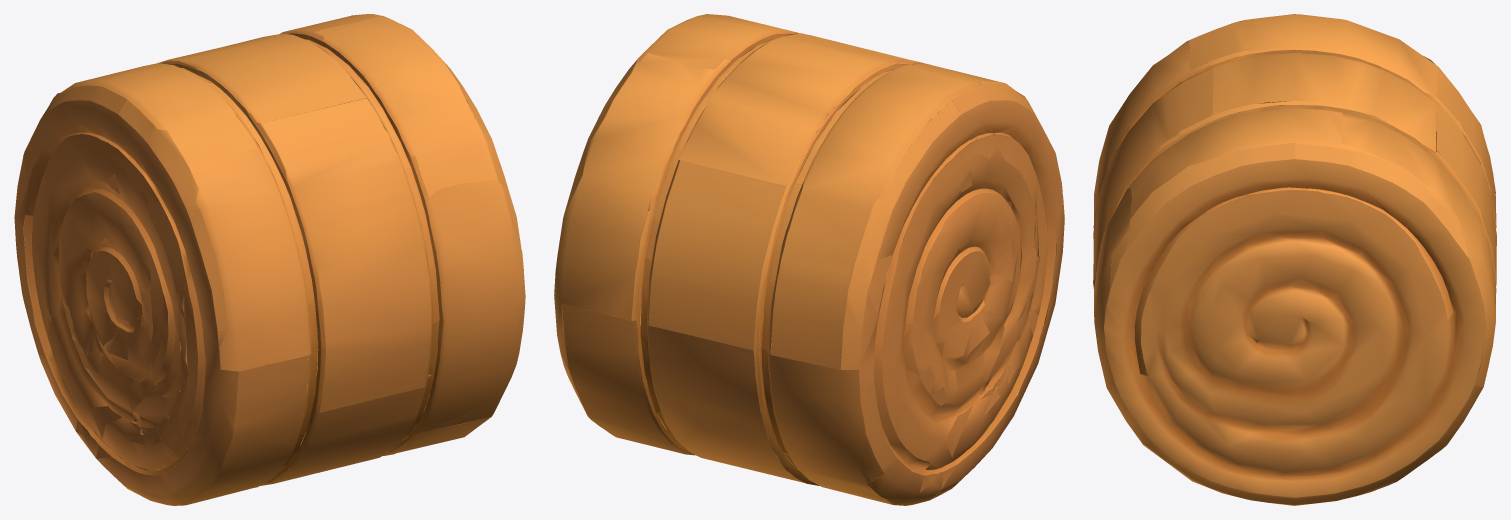
The model's file is PROP_C1_HAYBALE_game.glb.
The picture shows the model from 3 angles, left to right: view 1: azimuth 30°, elevation 25°; view 2: azimuth 150°, elevation 25°; view 3: azimuth 270°, elevation 25°; orthographic projection. The views are drawn at different scales.
Parts seen in each view (by area): view 1: PROP_C1_HAYBALE; view 2: PROP_C1_HAYBALE; view 3: PROP_C1_HAYBALE.
Part boxes in pixels (x1,y1,x2,y2): PROP_C1_HAYBALE: (14, 14, 525, 505); PROP_C1_HAYBALE: (554, 14, 1064, 505); PROP_C1_HAYBALE: (1093, 14, 1496, 505).
Bounding box in the file's own units: 1.2 × 1.4 × 1.4.
1 material, 1 textured.
